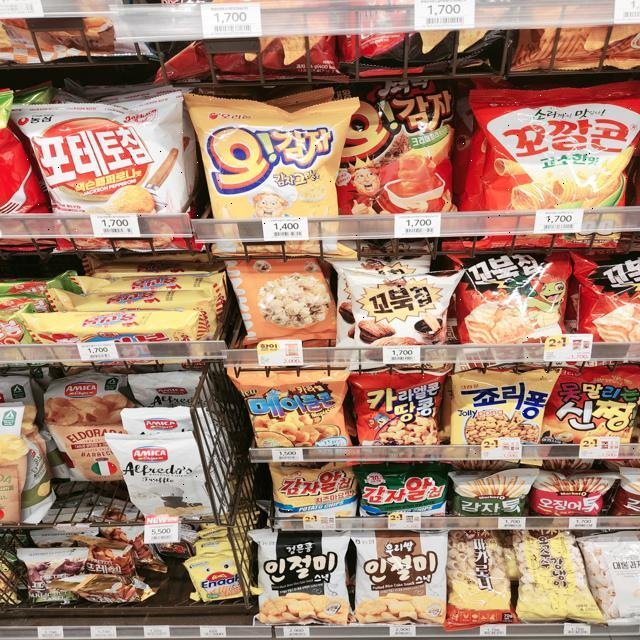product: (182, 88, 356, 257), (10, 100, 202, 253), (467, 92, 639, 249), (323, 79, 464, 242), (456, 251, 579, 364), (345, 268, 459, 378), (231, 365, 357, 457), (445, 359, 548, 459), (109, 436, 218, 530), (252, 533, 355, 631), (547, 359, 640, 460), (349, 370, 445, 461), (353, 535, 445, 627), (514, 527, 597, 619), (351, 463, 449, 530), (452, 529, 517, 625), (271, 454, 357, 523), (529, 465, 608, 529), (452, 469, 533, 527), (181, 562, 247, 598)
